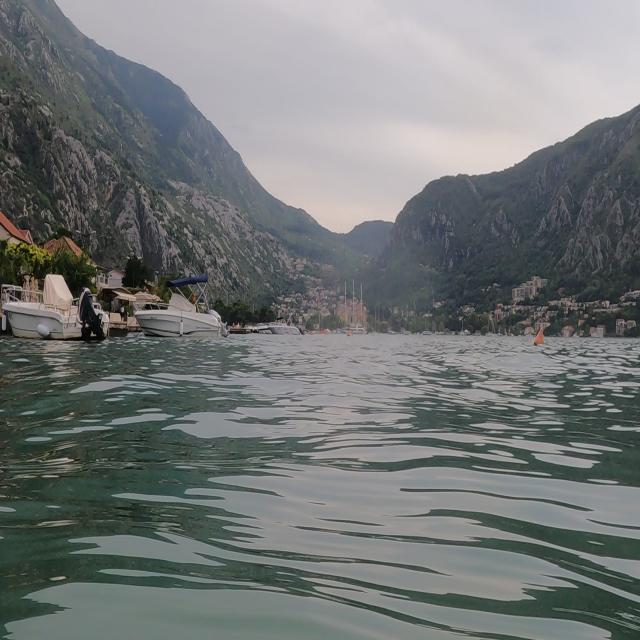boat: (3, 248, 119, 356), (133, 271, 228, 342), (252, 303, 314, 350), (337, 270, 376, 341)
buoy: (528, 320, 551, 352)
